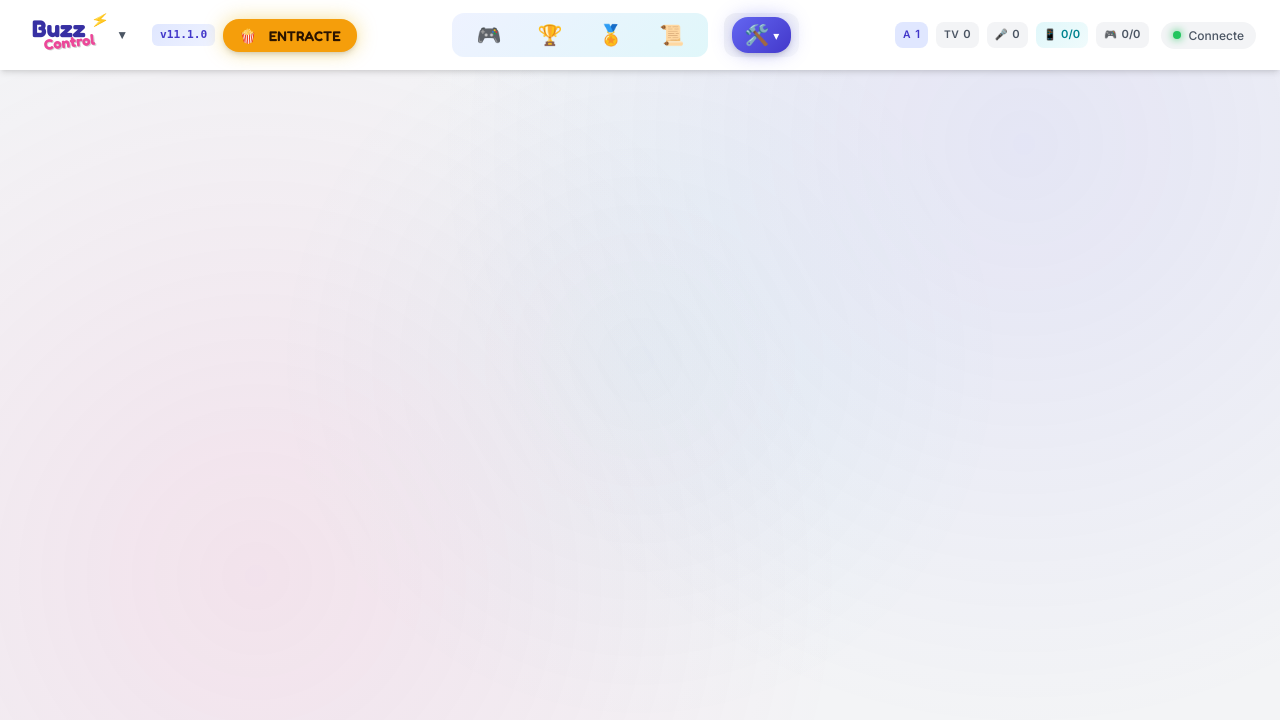
it: Navbar — ouverture/fermeture du menu inchangée (#239 AC2) › un clic sur le bouton (logo) ouvre le menu, un second clic le ferme
Click the button with aria-label "Menu de navigation" at point(80, 35), box [24,12,136,58]
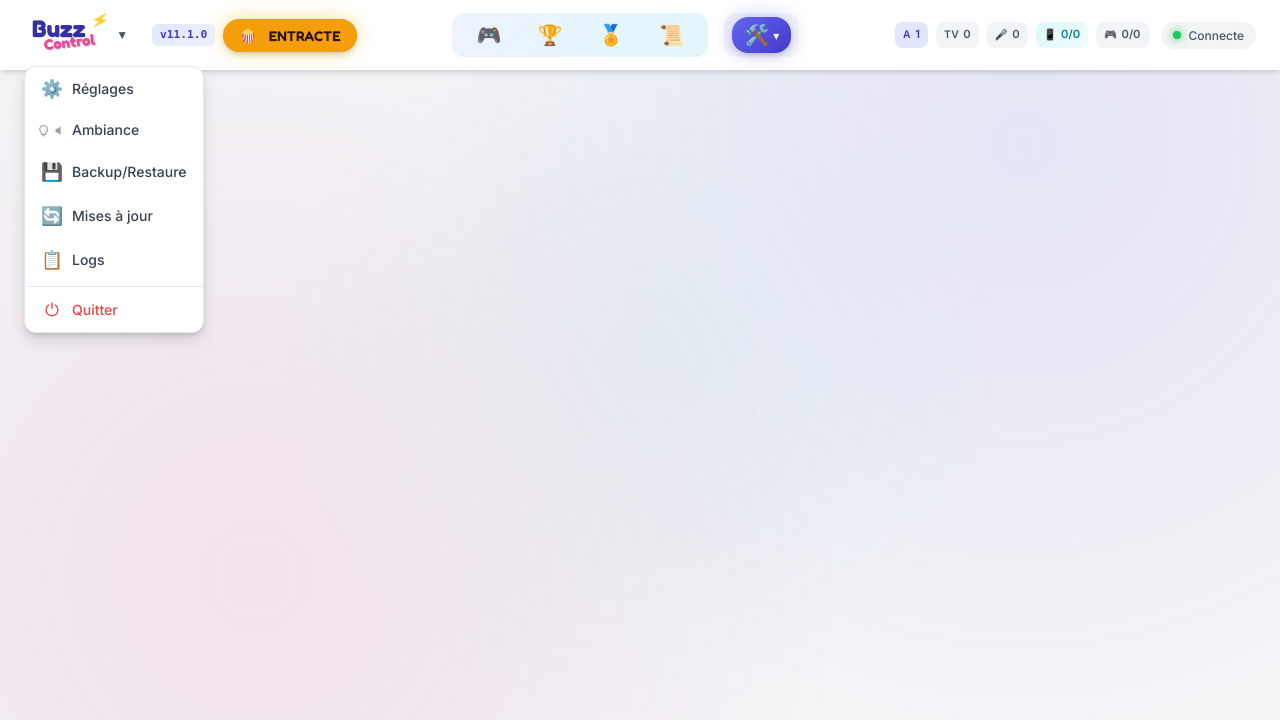
Result: the element with class "navbar-menu-dropdown" is shown at [24,66,204,333]
Click the button with aria-label "Menu de navigation" at point(80, 35), box [24,12,136,58]
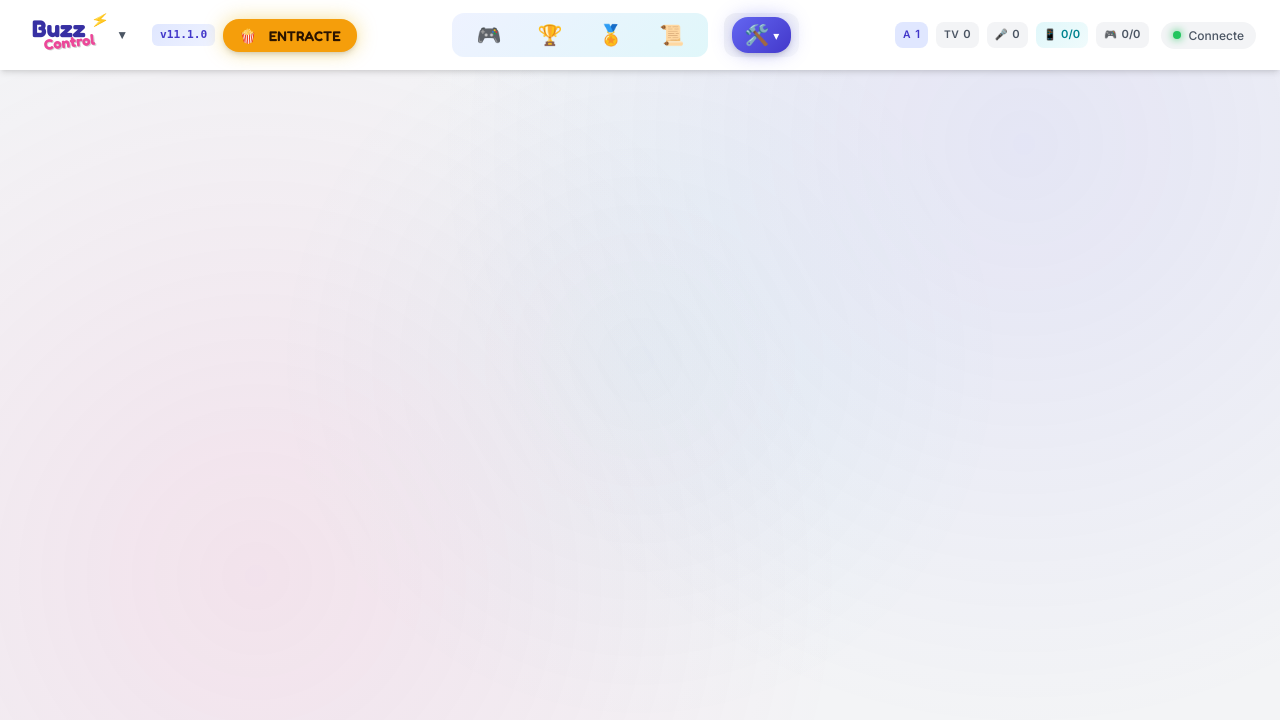
Result: the element with class "navbar-menu-dropdown" is gone
